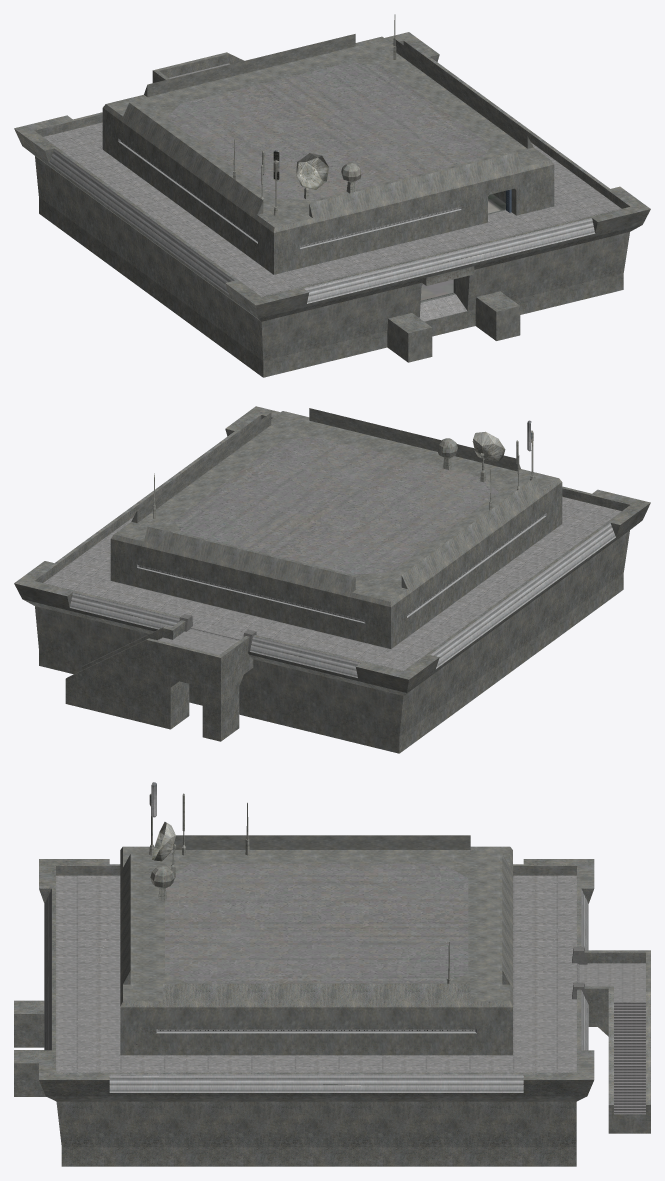
The model's file is mun_all_military_base_police_station_impl_s01_r0_mesh_l0_r0.fbx.
The picture shows the model from 3 angles, top to bottom: view 1: azimuth 30°, elevation 25°; view 2: azimuth 150°, elevation 25°; view 3: azimuth 270°, elevation 25°; orthographic projection. The views are drawn at different scales.
Parts seen in each view (by area): view 1: mesh_node; view 2: mesh_node; view 3: mesh_node.
Part boxes in pixels (<box>): mesh_node: <box>14,14,650,377</box>; mesh_node: <box>14,406,650,753</box>; mesh_node: <box>14,782,650,1166</box>.
Bounding box in the file's own units: 49.31 × 22.07 × 60.
